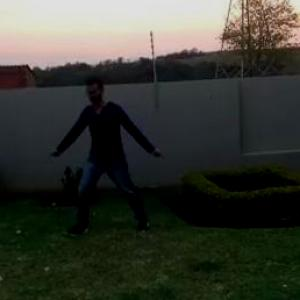land: (45, 61, 169, 241)
